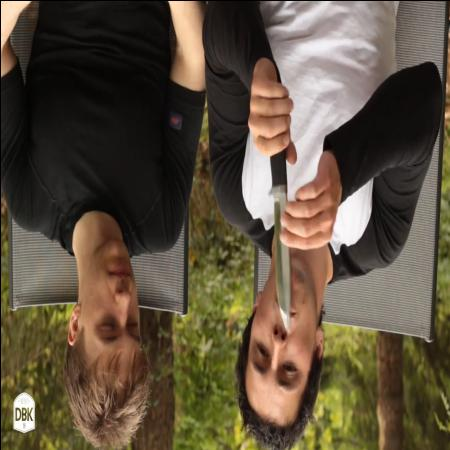long weapon: (262, 132, 294, 340)
